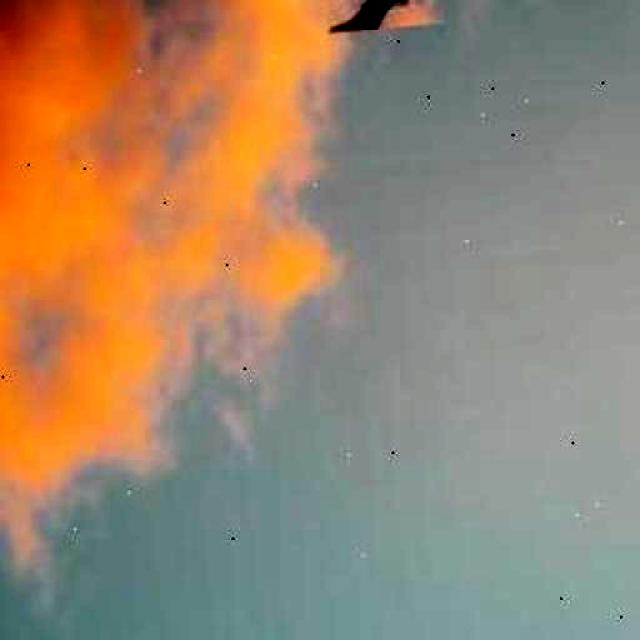airplane: (322, 0, 444, 32)
